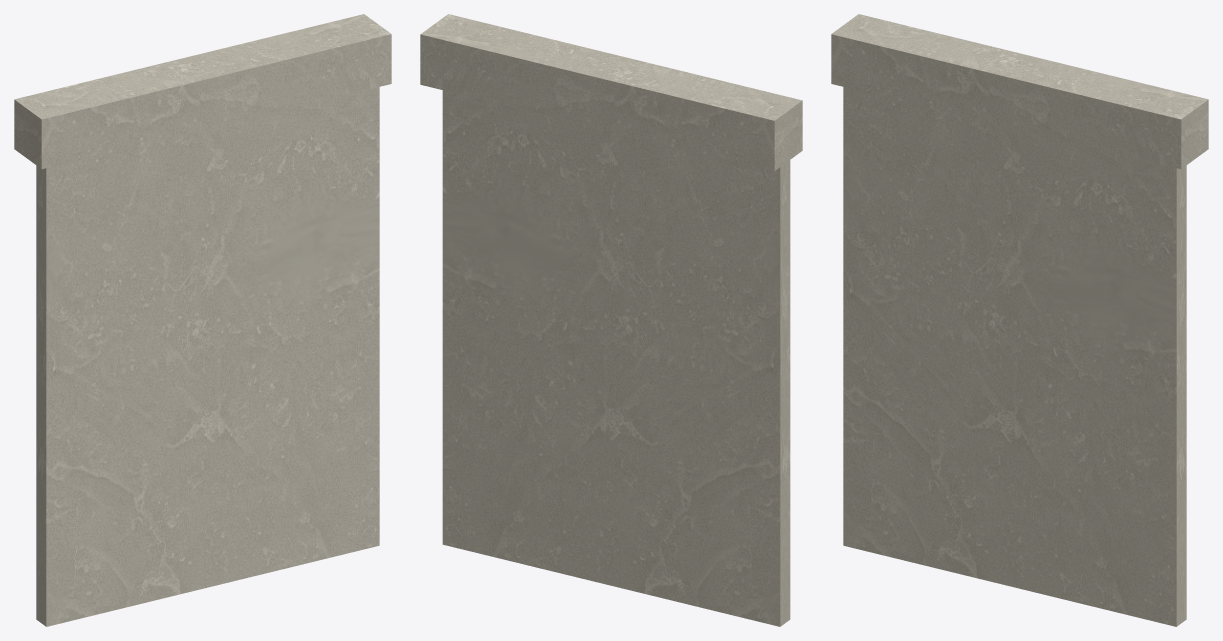
Rendered from AlabasterExteriorWall.glb.
The picture shows the model from 3 angles, left to right: view 1: azimuth 30°, elevation 25°; view 2: azimuth 150°, elevation 25°; view 3: azimuth 330°, elevation 25°; orthographic projection.
Parts seen in each view (by area): view 1: AlabasterExteriorWall; view 2: AlabasterExteriorWall; view 3: AlabasterExteriorWall.
Boxes of the visible parts, x1,y1,x2,y2 form: AlabasterExteriorWall: (14,14,391,626); AlabasterExteriorWall: (420,14,802,626); AlabasterExteriorWall: (831,14,1208,626).
Size of what is drawn, in the model's own units: 2.09 by 2.92 by 0.2854.
Materials: 1 (1 with a texture image).
